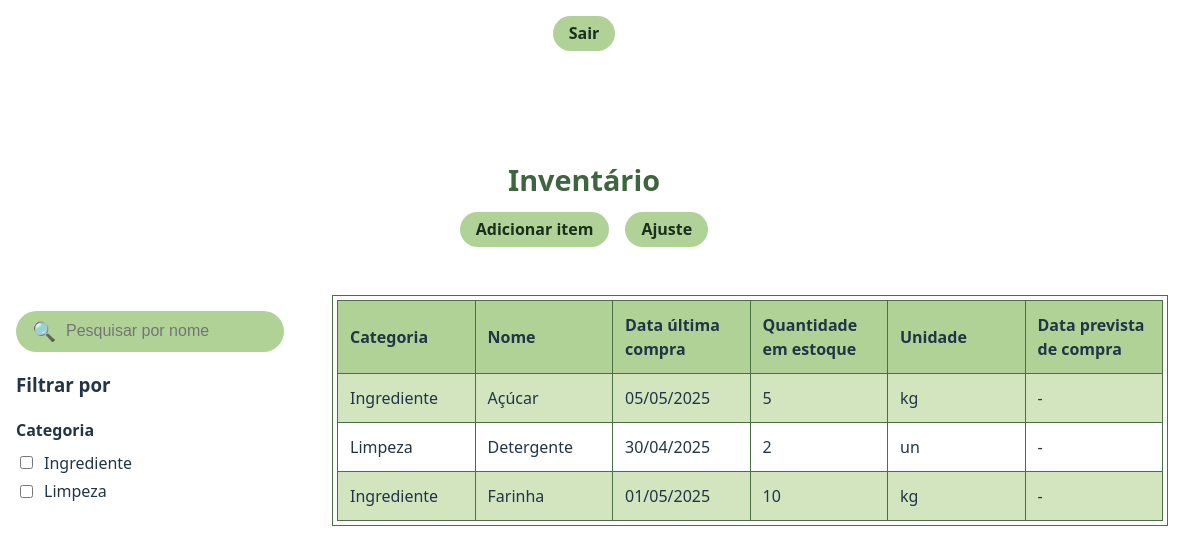
Test: Inventory Component › filtra itens por categoria
Click the checkbox labelled "Limpeza" at (26, 491), box [20,485,33,498]
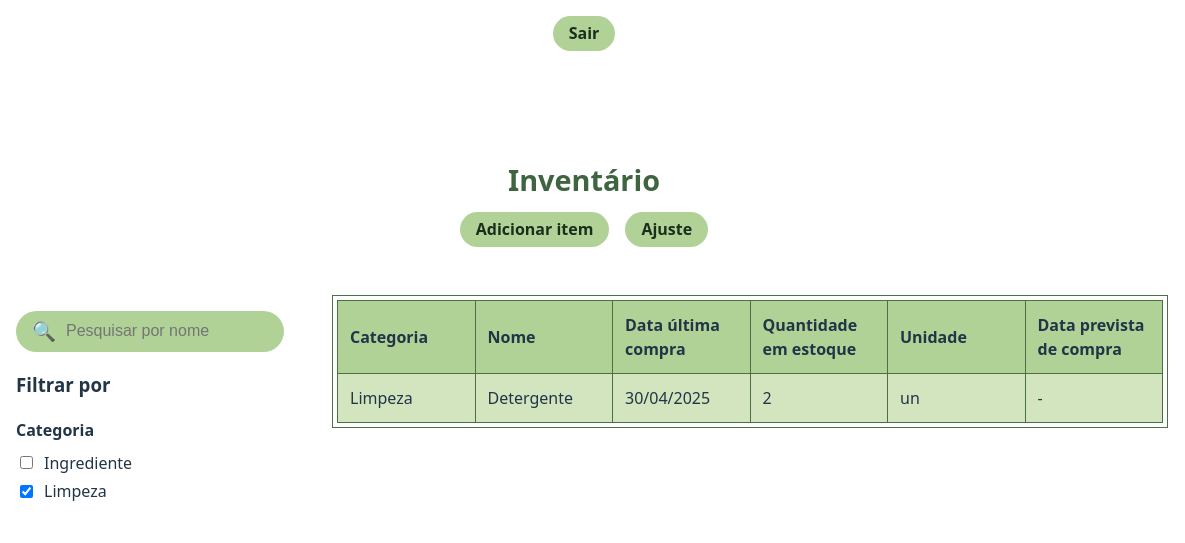
Expected: the text "Detergente" is shown, [475,373,612,422]
Expected: the text "Farinha" is gone
Expected: the text "Açúcar" is gone
